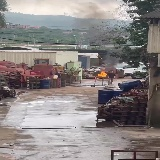fire: (96, 71, 107, 77)
